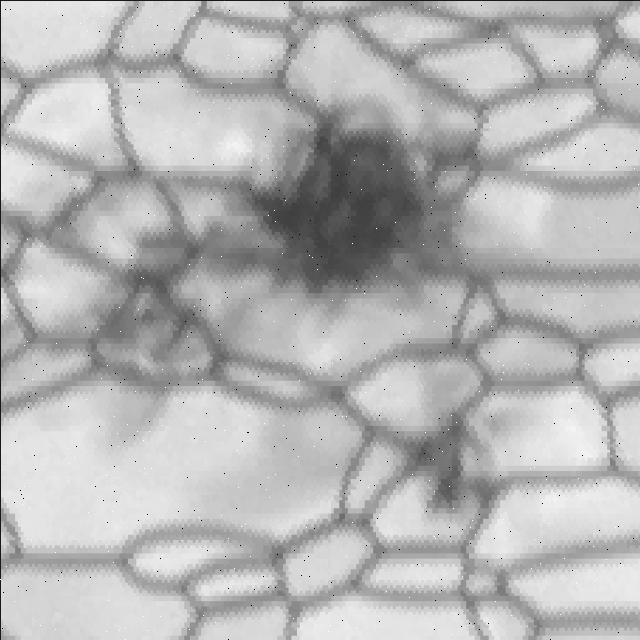good_void: (224, 89, 483, 327), (82, 219, 246, 395), (385, 404, 501, 530)
